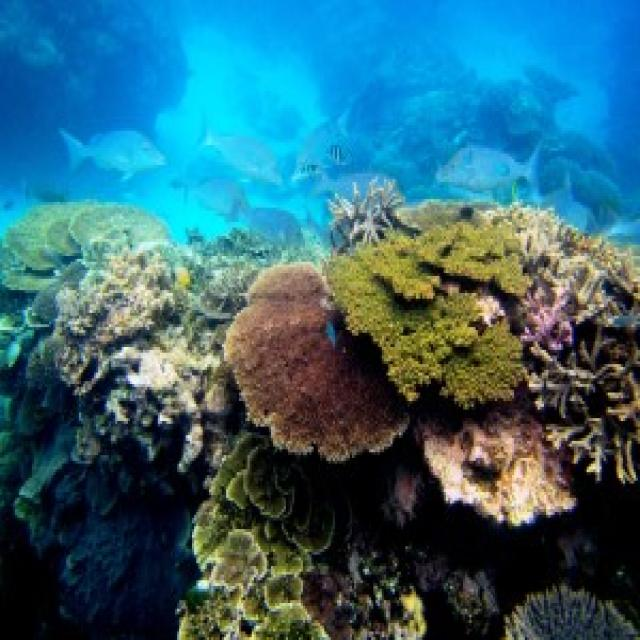Bleached: (178, 490, 323, 638)
Healthy: (225, 263, 408, 462), (485, 209, 632, 354), (419, 402, 577, 524), (334, 271, 479, 399), (532, 314, 639, 479), (78, 345, 214, 470), (56, 246, 172, 385), (214, 436, 334, 553), (3, 203, 170, 277), (400, 203, 528, 297), (419, 294, 524, 408), (366, 226, 460, 300), (507, 587, 639, 638), (191, 248, 268, 322), (332, 180, 402, 248)
